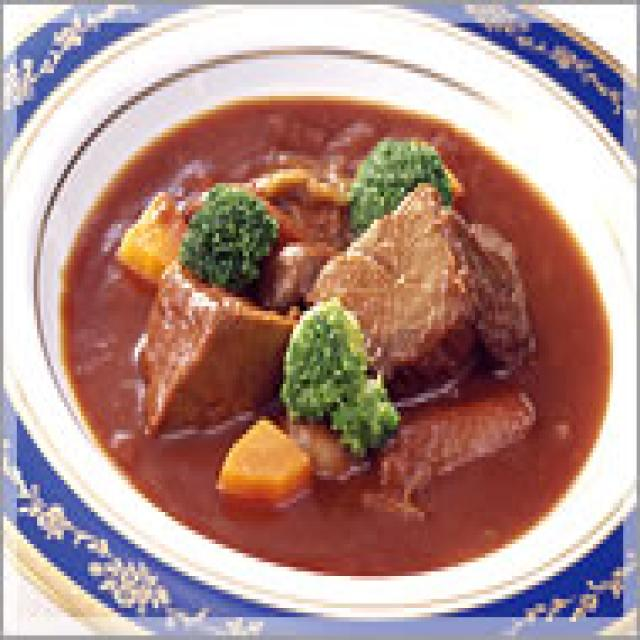汤锅炖物: (20, 27, 613, 599)
